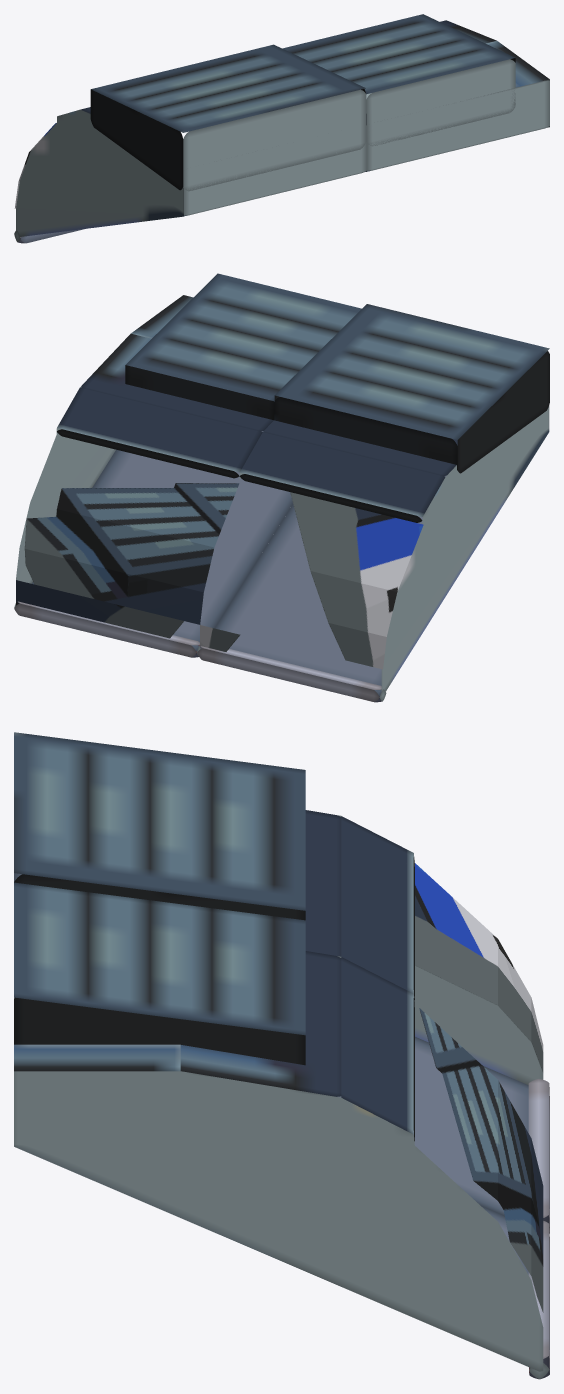
The model's file is df11g_carport_yue.obj.
The picture shows the model from 3 angles, top to bottom: view 1: azimuth 30°, elevation 25°; view 2: azimuth 150°, elevation 25°; view 3: azimuth 270°, elevation 25°; orthographic projection. The views are drawn at different scales.
Parts seen in each view (by area): view 1: cube; view 2: cube; view 3: cube.
Boxes of the visible parts, x1=… form: cube: x1=14, y1=14, x2=549, y2=243; cube: x1=14, y1=273, x2=549, y2=702; cube: x1=14, y1=732, x2=549, y2=1379.
Size of the model in its own units: 2.01 by 1.21 by 1.61.
